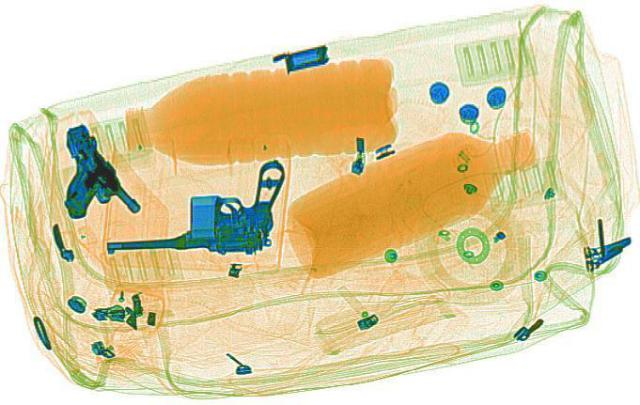Gun: (98, 149, 290, 260), (0, 119, 168, 228)
